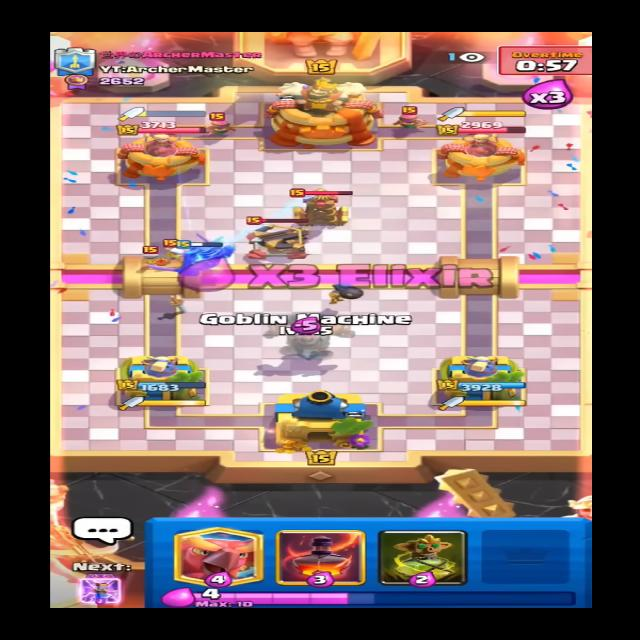archer: (390, 108, 432, 128), (200, 114, 236, 137)
skeleton: (140, 241, 166, 267)
tesla: (290, 188, 358, 229)
x-bow: (232, 214, 318, 264)
